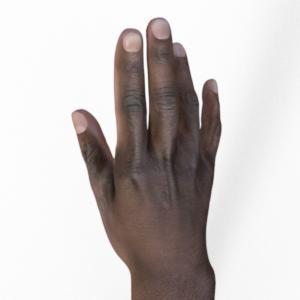paper: (73, 18, 221, 300)
